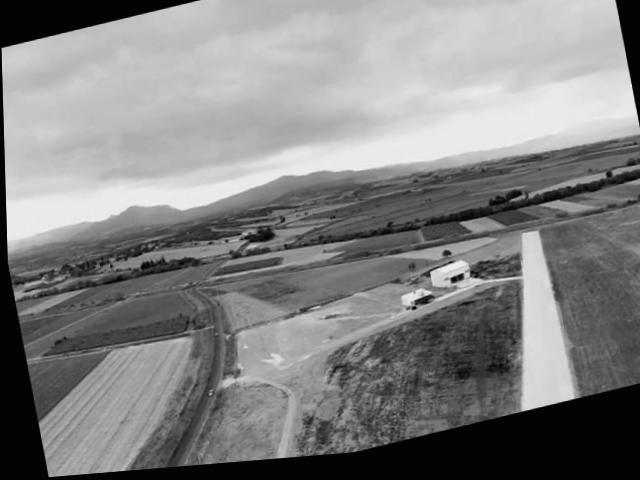hedef: (302, 0, 539, 30)
